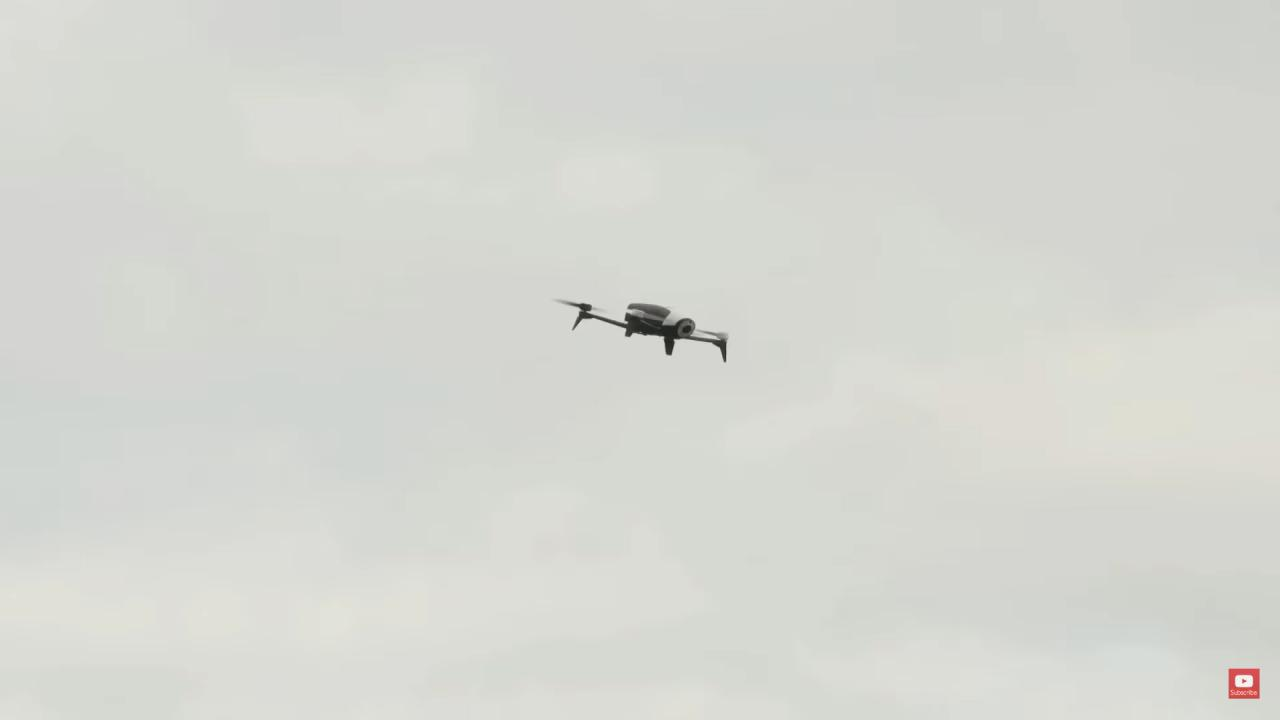Drone: (541, 279, 745, 374)
